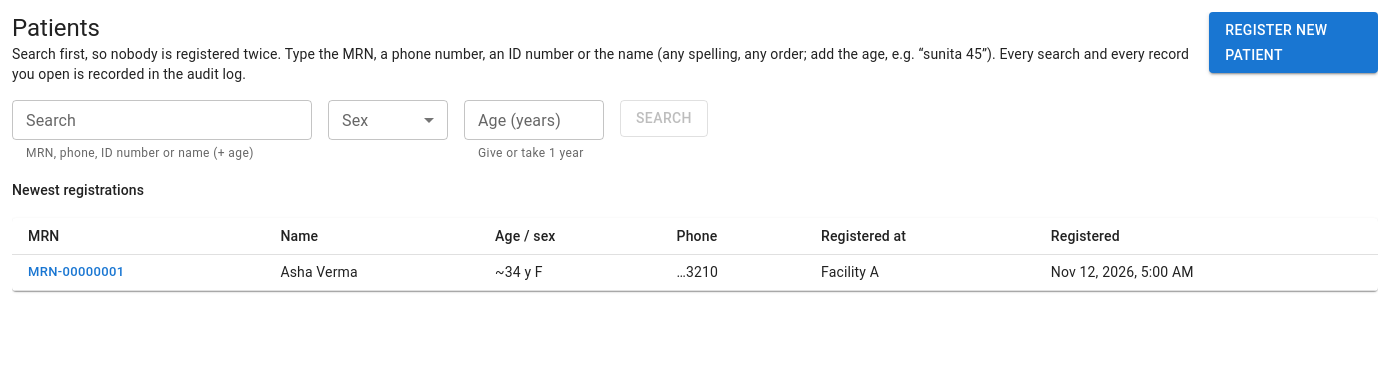
Test: Patients (HIMS-PAT-001) › asks for more detail when more than 50 match, and offers registration when nobody does
The image size is (1378, 374).
Expected: the link "MRN-00000001" is shown, [28,261,125,284]
In the field labelled "Search": (162, 120) [12,100,312,140], type "verma"
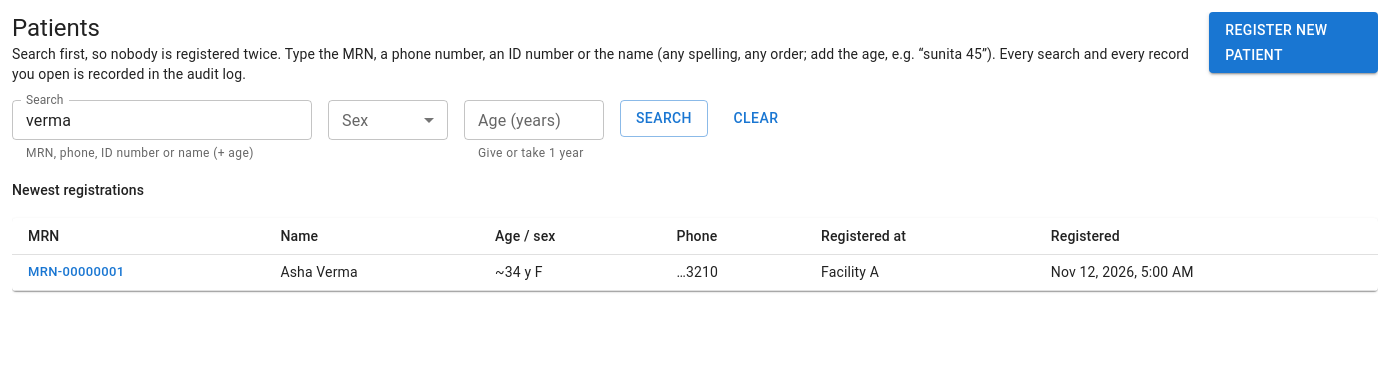
Click the button "Search": (664, 118) [620,100,708,136]
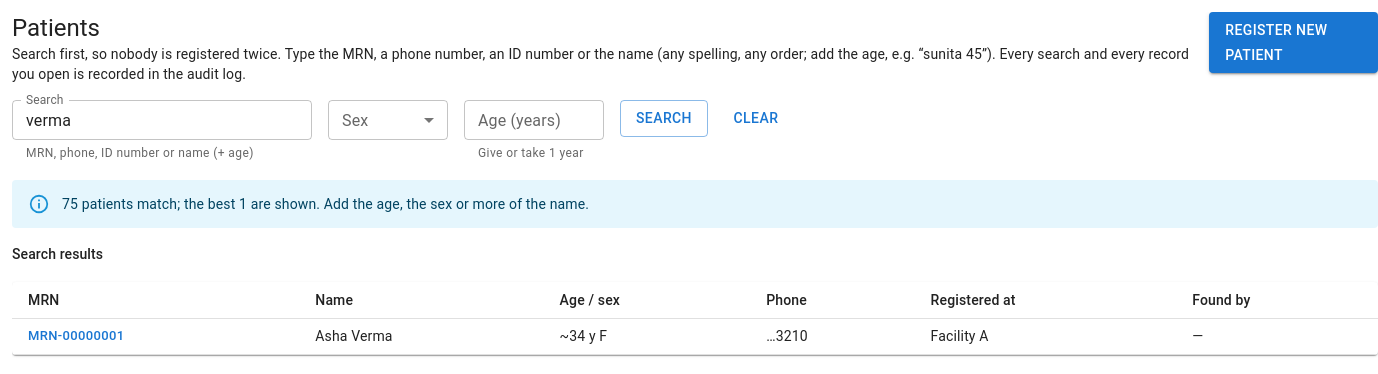
Expected: the text "75 patients match; the best 1 are shown" is shown, [62,196,589,212]
Replace the text in the field labelled "Search" with "kumar": (162, 120) [12,100,312,140]
Click the button "Search": (664, 118) [620,100,708,136]
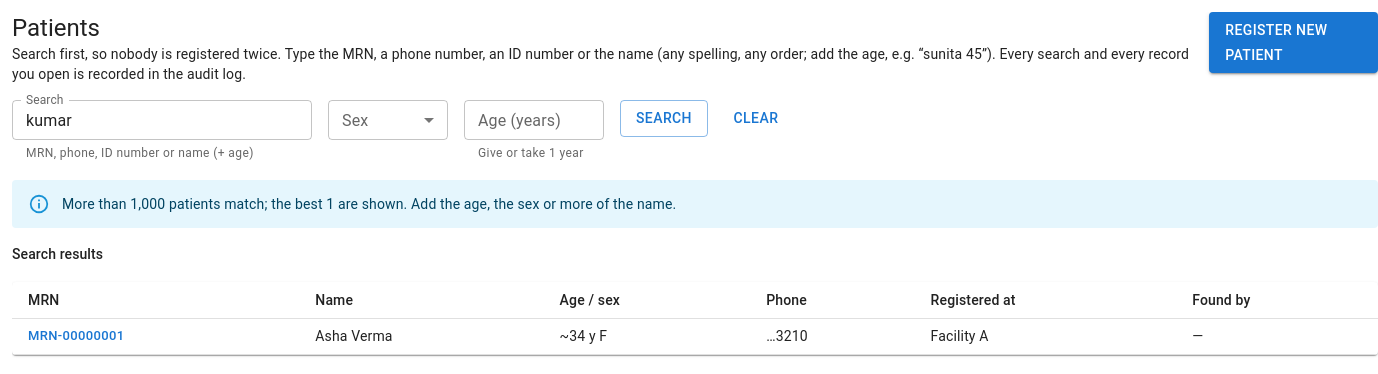
Expected: the text "More than 1,000 patients match; the best 1 are shown" is shown, [62,196,676,212]
Replace the text in the field labelled "Search" with "zebedee": (162, 120) [12,100,312,140]
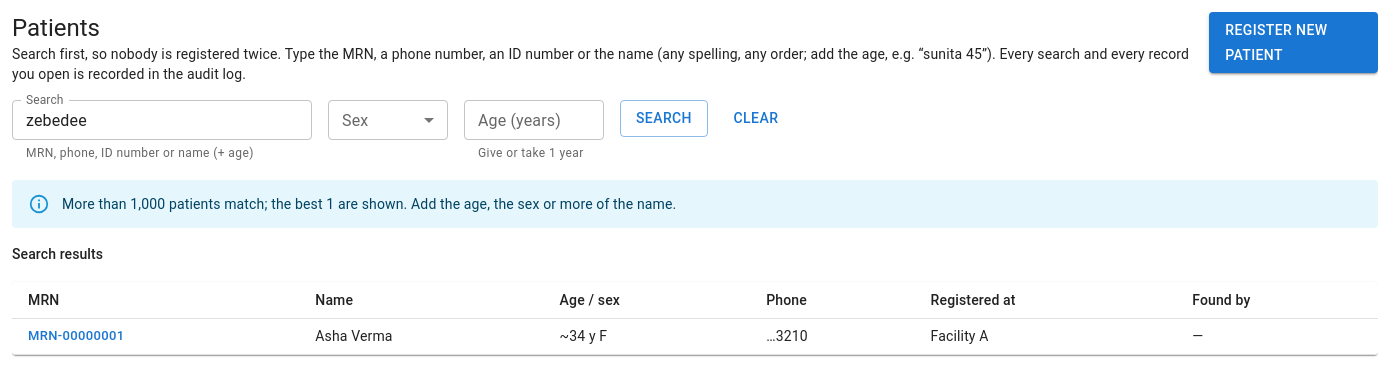
Click the button "Search": (664, 118) [620,100,708,136]
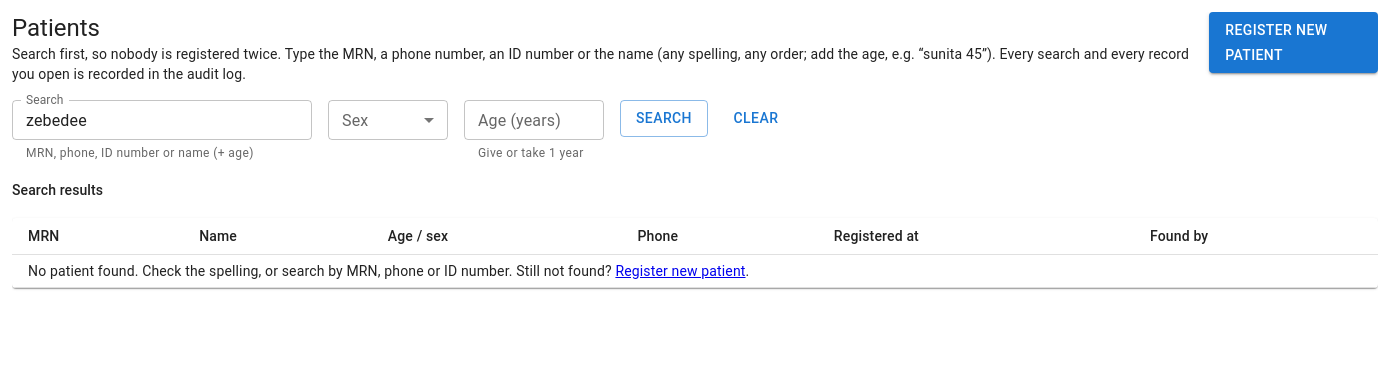
Expected: the text "No patient found" is shown, [28,263,513,279]
Expected: the number of links "Register new patient" is 2, [1209,12,1377,73]; [615,263,746,279]
Click the button "Clear": (756, 118) [724,100,788,136]
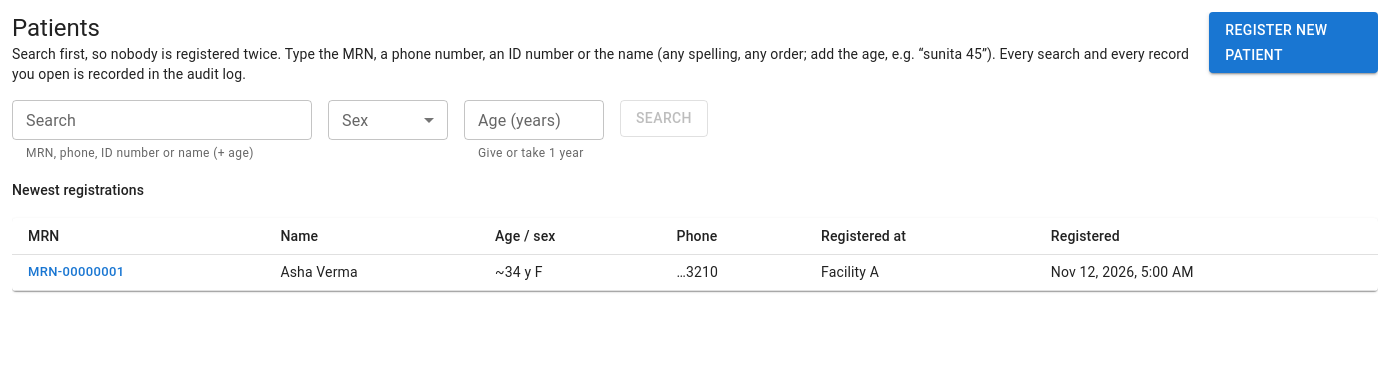
Expected: the heading "Newest registrations" is shown, [12,182,144,198]
